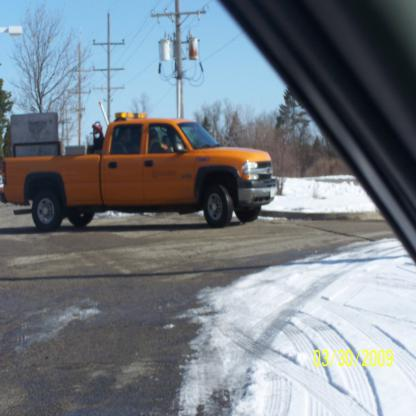Truck: (0, 101, 277, 232)
